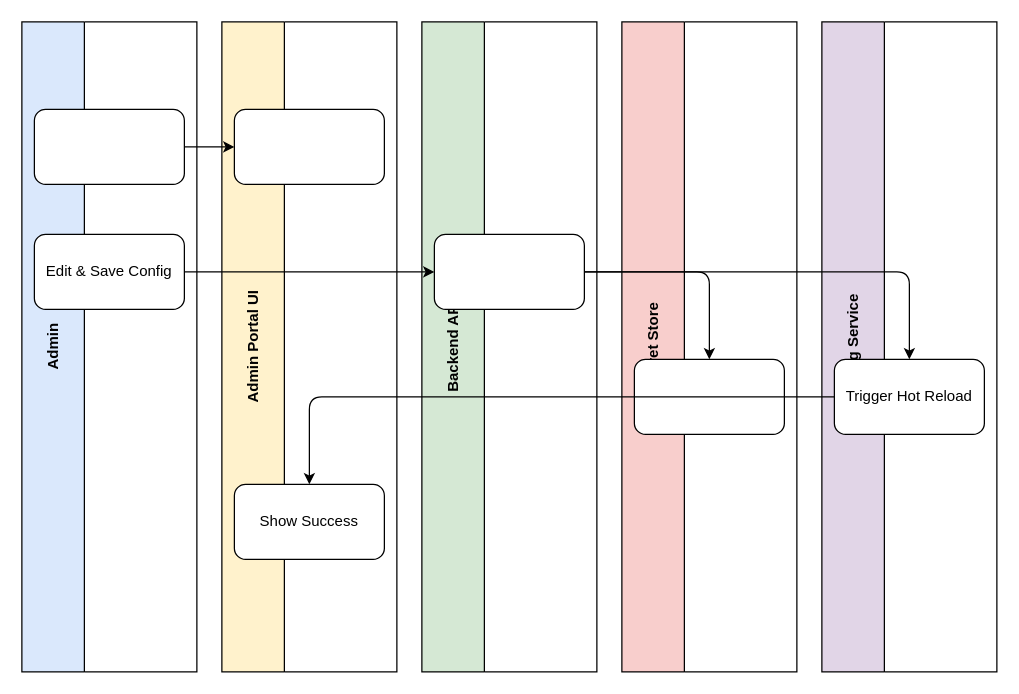
Some shapes in this 1019 by 694 pixel diagram are drawn without their labels. The shapes that lost their labels are listed below. From the top down, each one's centre as x and y in pixels, then its label:
pixel 108 146: Login & Navigate to SSO Config
pixel 308 146: Display Config Form
pixel 508 271: Validate Input & RBAC Check
pixel 708 396: Store Secret
